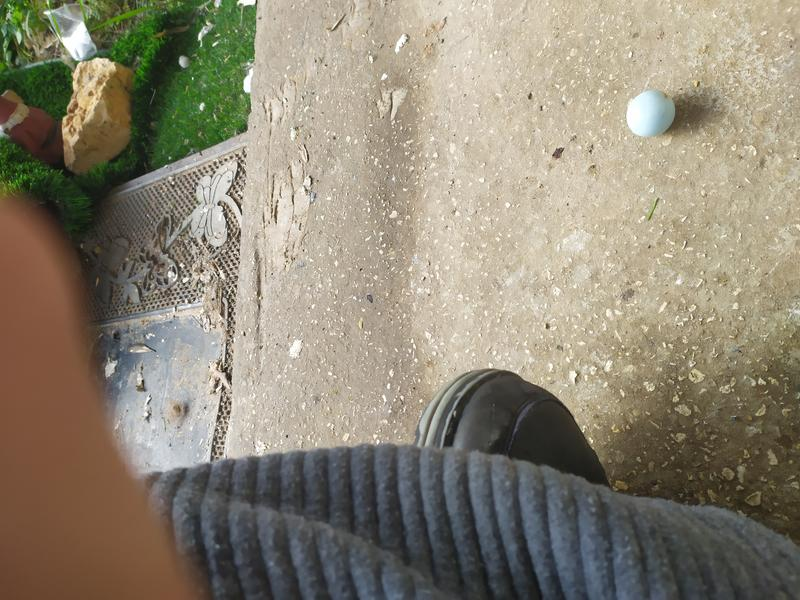Warning: (624, 87, 678, 139)
